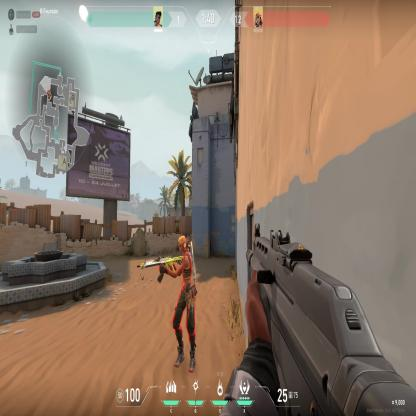enemy: (158, 234, 199, 374)
